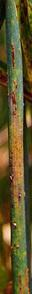Wheat: (5, 40, 21, 125)
